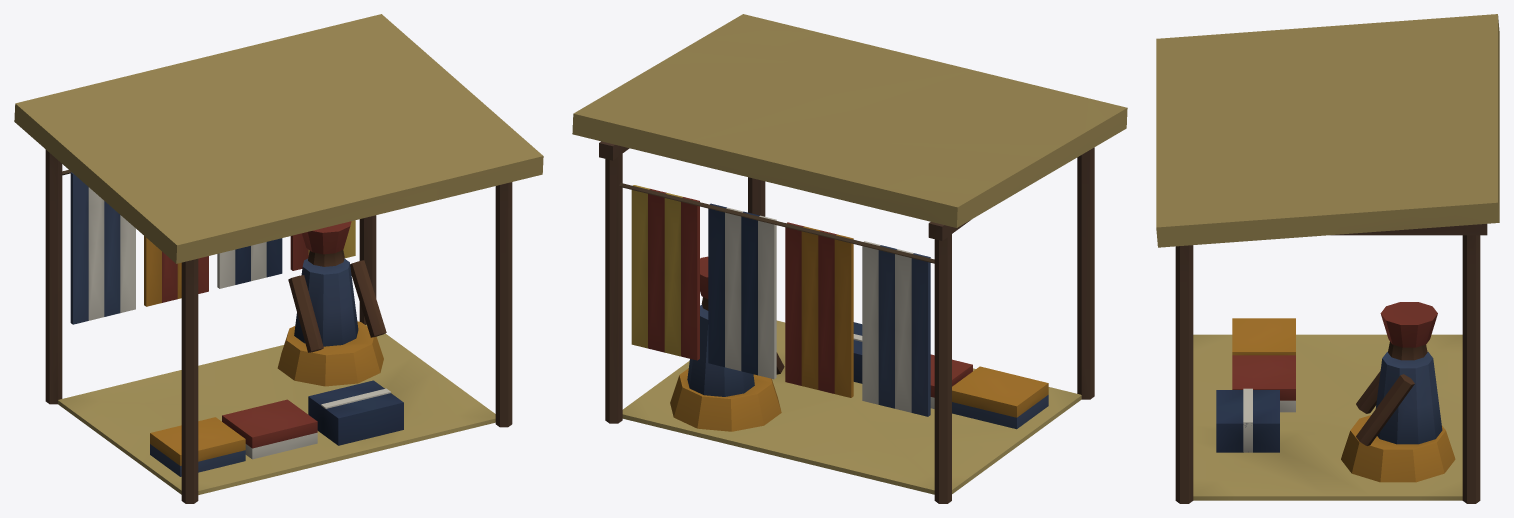
Rendered from stall-cloth.glb.
The picture shows the model from 3 angles, left to right: view 1: azimuth 30°, elevation 25°; view 2: azimuth 150°, elevation 25°; view 3: azimuth 270°, elevation 25°; orthographic projection. The views are drawn at different scales.
Parts seen in each view (by area): view 1: base; view 2: base; view 3: base.
Boxes of the visible parts, x1,y1,x2,y2 form: base: (14,14,543,503); base: (572,14,1127,503); base: (1156,14,1499,503).
Size of the model in its own units: 2.8 by 2.16 by 2.15.
